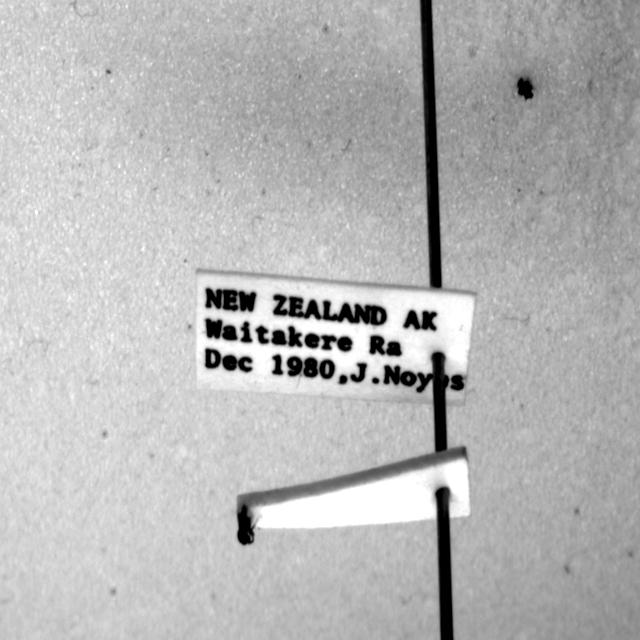typed_label: (196, 270, 475, 405)
